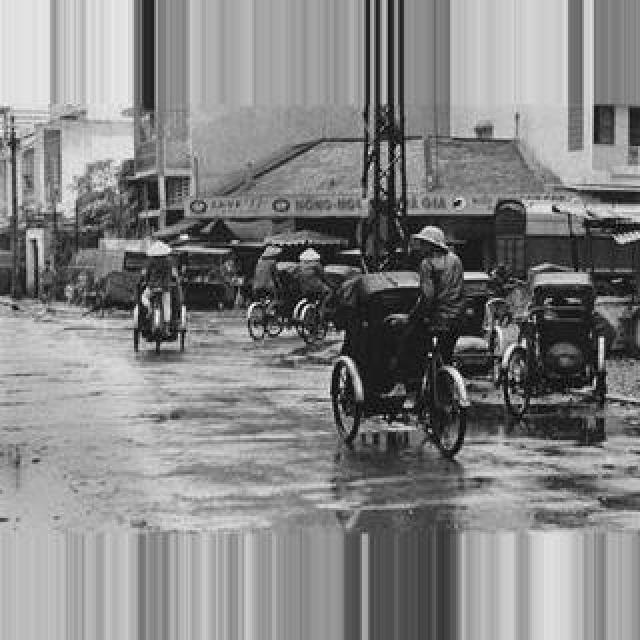MC-Bike: (384, 224, 466, 408), (292, 246, 332, 318)
Person: (330, 280, 474, 460), (248, 282, 312, 344)
